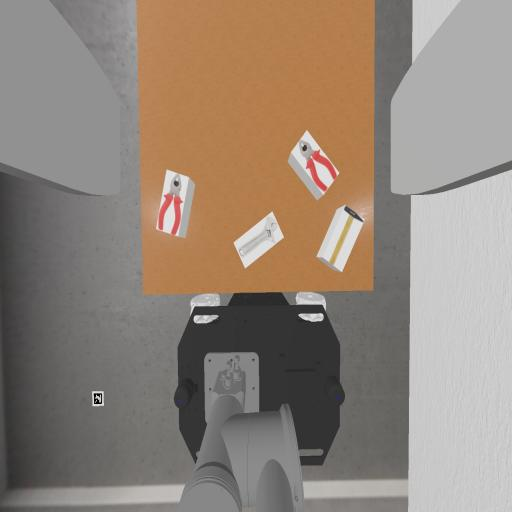hammer: (330, 207, 363, 264)
pliers: (299, 140, 336, 191), (158, 175, 183, 235)
wrench: (239, 217, 277, 256)
